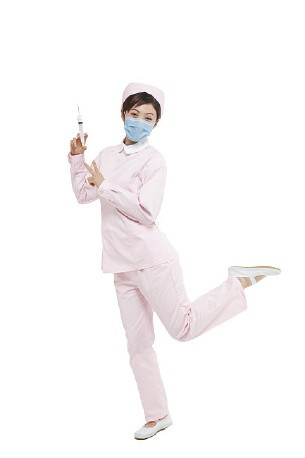Mask: (123, 108, 158, 142)
